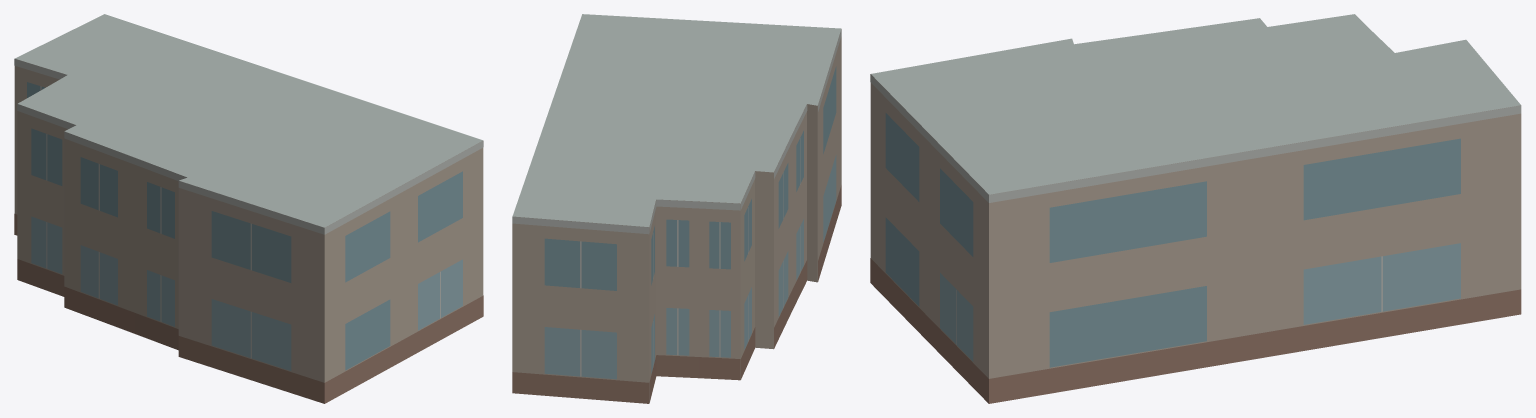
Rendered from survey-upis-32591822.glb.
3 views of the same model, side by side, from view 1: azimuth 30°, elevation 25°; view 2: azimuth 150°, elevation 25°; view 3: azimuth 270°, elevation 25° (orthographic). The views are drawn at different scales.
Parts seen in each view (by area): view 1: survey-upis-32591822.tmp; view 2: survey-upis-32591822.tmp; view 3: survey-upis-32591822.tmp.
Boxes of the visible parts, left/top/right/bottom form: survey-upis-32591822.tmp: left=14, top=14, right=483, bottom=403; survey-upis-32591822.tmp: left=512, top=14, right=841, bottom=403; survey-upis-32591822.tmp: left=870, top=14, right=1521, bottom=403.
Size of the model in its own units: 11.32 by 6.1 by 17.21.
